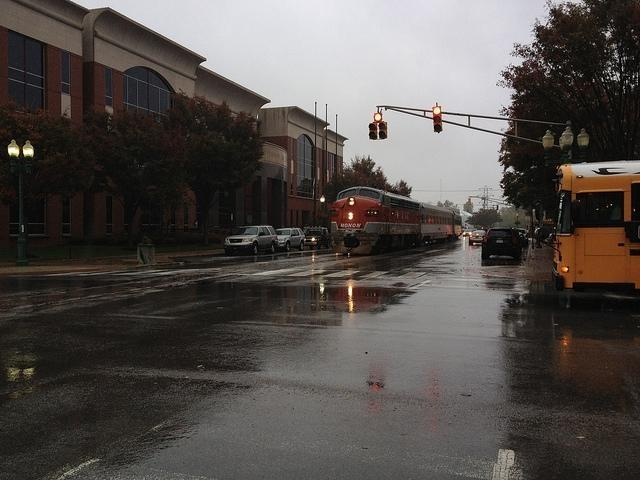bus: (554, 158, 640, 292)
car: (222, 224, 279, 254), (469, 228, 522, 260), (274, 227, 306, 253), (303, 224, 331, 250), (462, 231, 472, 237)
truck: (223, 225, 280, 256), (274, 227, 306, 253), (304, 228, 332, 250)
